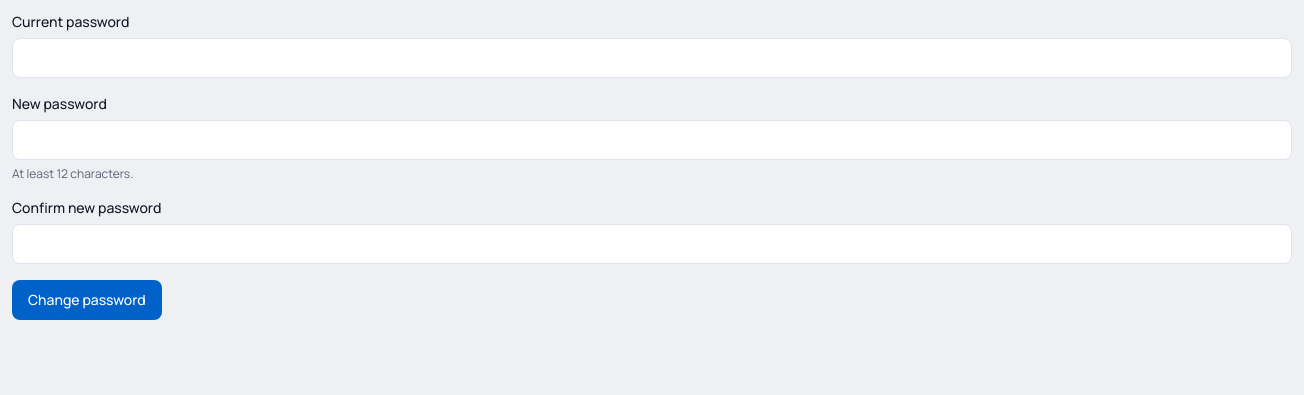
Test: PasswordForm › sends all three, then empties them and says the other devices are signed out
This screenshot has width=1304, height=395.
Step 1. Type "correct horse" into the password field labelled "Current password" → (652, 58), box x1=12 y1=38 x2=1292 y2=78
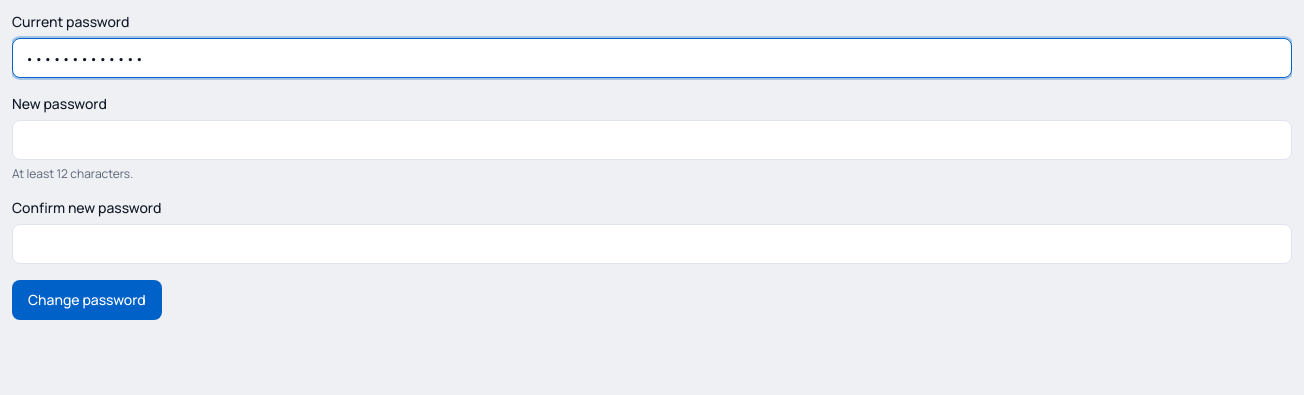
Step 2. Type "a much longer passphrase" into the password field labelled "New password" → (652, 140), box x1=12 y1=120 x2=1292 y2=160
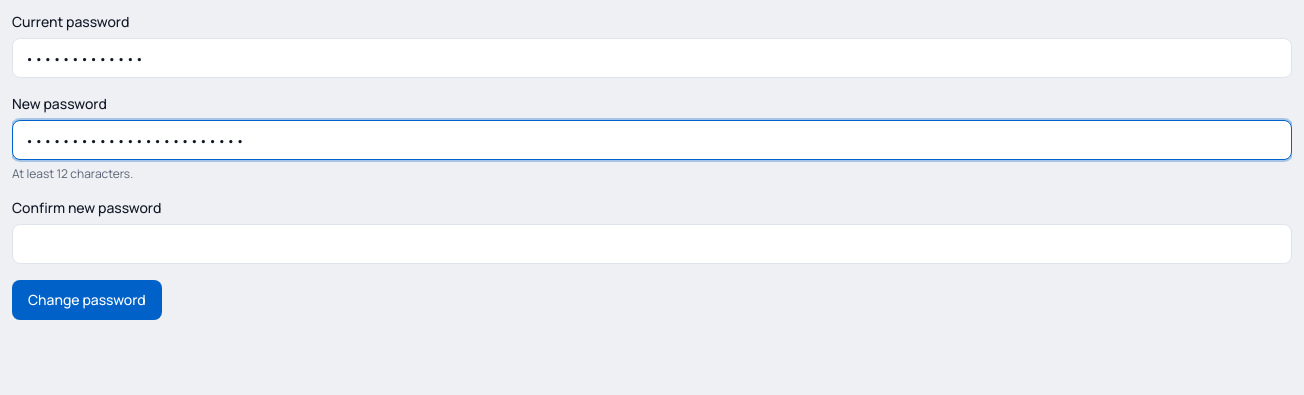
Step 3. Type "a much longer passphrase" into the password field labelled "Confirm new password" → (652, 244), box x1=12 y1=224 x2=1292 y2=264
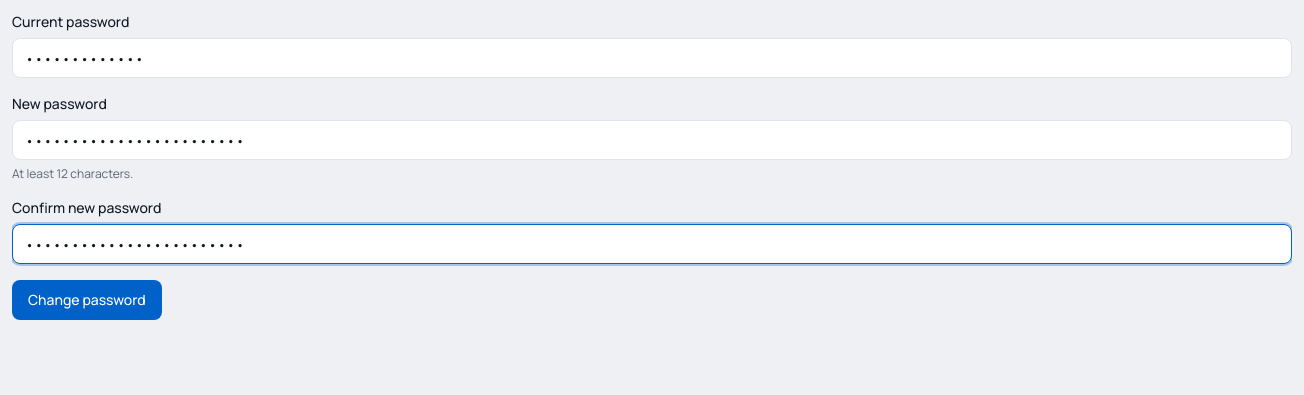
Step 4. Click the button "Change password" → click(87, 300), box x1=12 y1=280 x2=162 y2=320
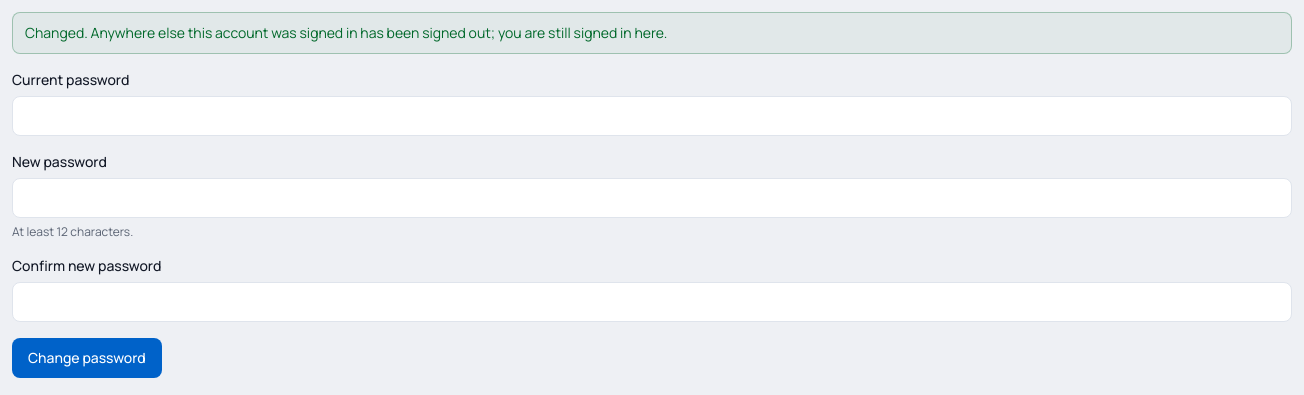
Expected: the text "Anywhere else this account was signed in" is shown, x1=25 y1=23 x2=667 y2=42
Expected: the password field labelled "New password" is empty, x1=12 y1=178 x2=1292 y2=218
